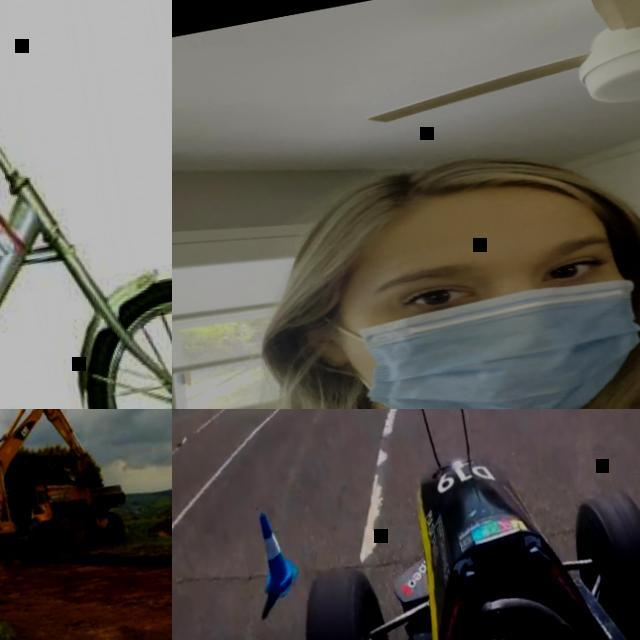Weapon: (231, 21, 640, 404)
